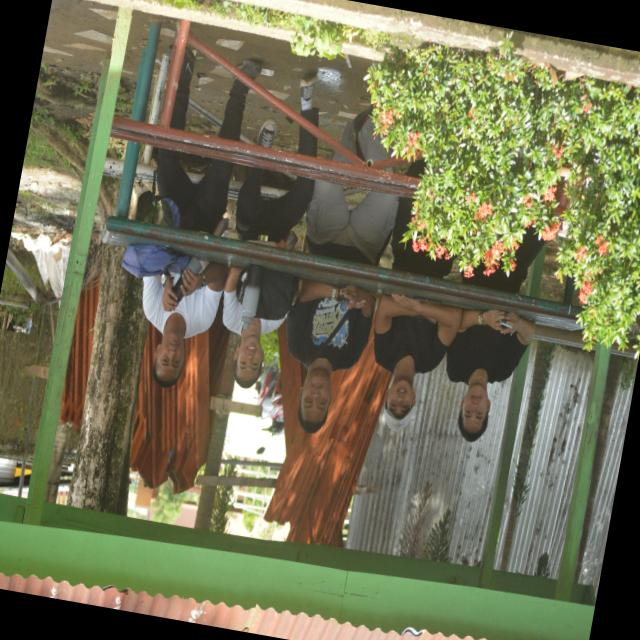person: (286, 279, 374, 432), (373, 293, 460, 430), (446, 309, 534, 441), (142, 261, 226, 386), (222, 266, 284, 387)
